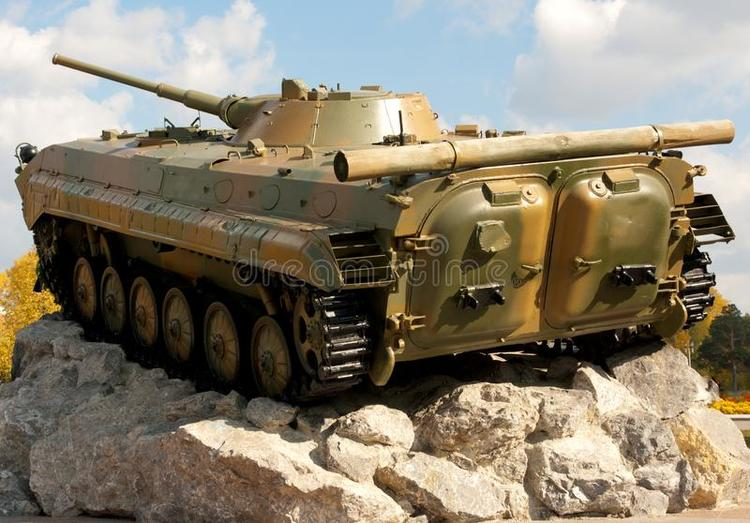bmp: (19, 53, 718, 387)
